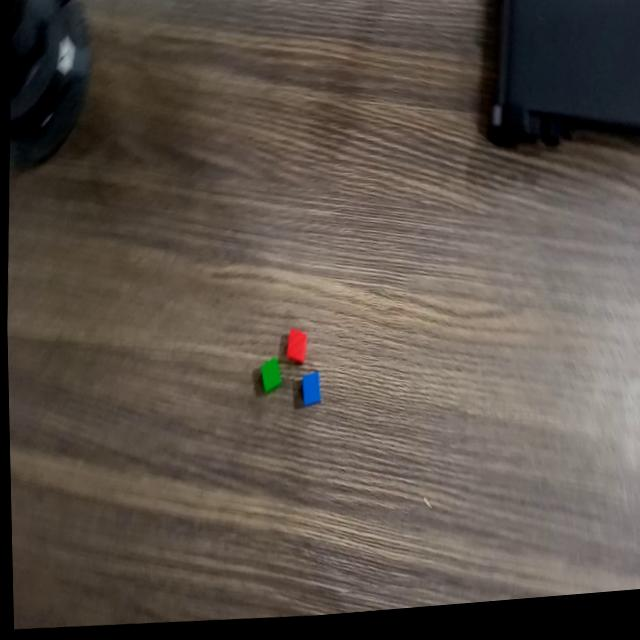cube: (254, 356, 282, 401), (281, 329, 308, 372), (297, 372, 323, 413)
